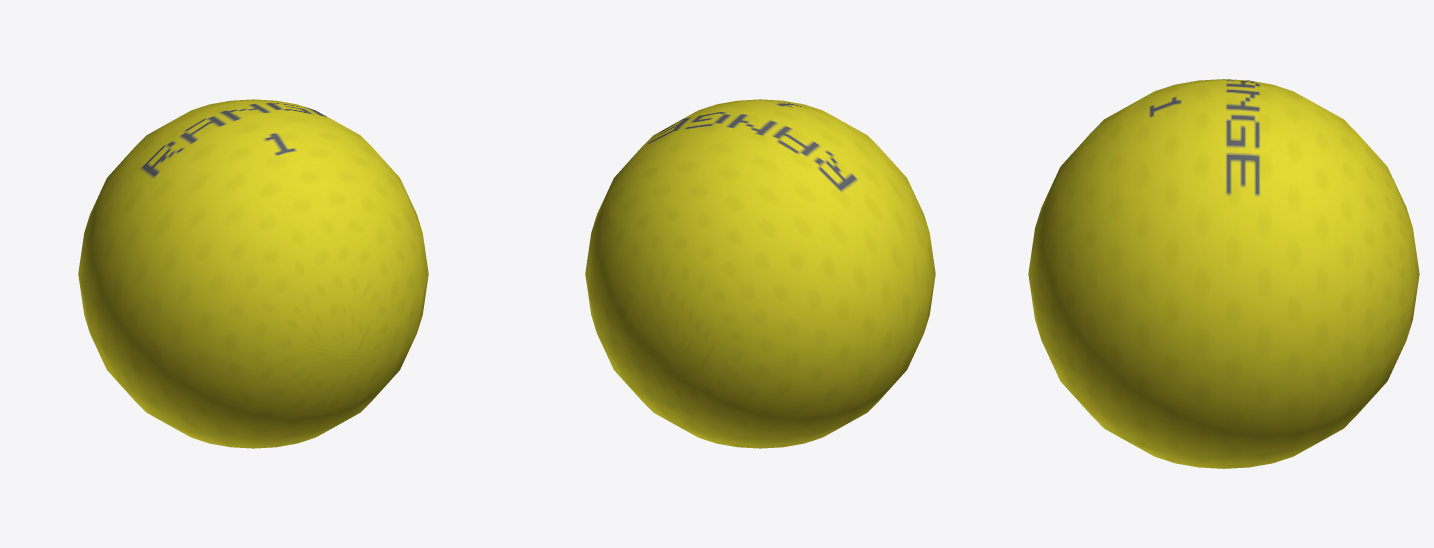
File: pf_ball_loose_yellow.glb
The picture shows the model from 3 angles, left to right: view 1: azimuth 30°, elevation 25°; view 2: azimuth 150°, elevation 25°; view 3: azimuth 270°, elevation 25°; orthographic projection. The views are drawn at different scales.
Visible parts, largest first — view 1: Ball_Body; view 2: Ball_Body; view 3: Ball_Body.
Part boxes in pixels (box(x1,y1,x2,y2)): Ball_Body: box(78, 99, 428, 448); Ball_Body: box(585, 99, 935, 448); Ball_Body: box(1028, 79, 1419, 468).
Bounding box in the file's own units: 0.0427 × 0.0427 × 0.0427.
2 materials, 1 textured.
